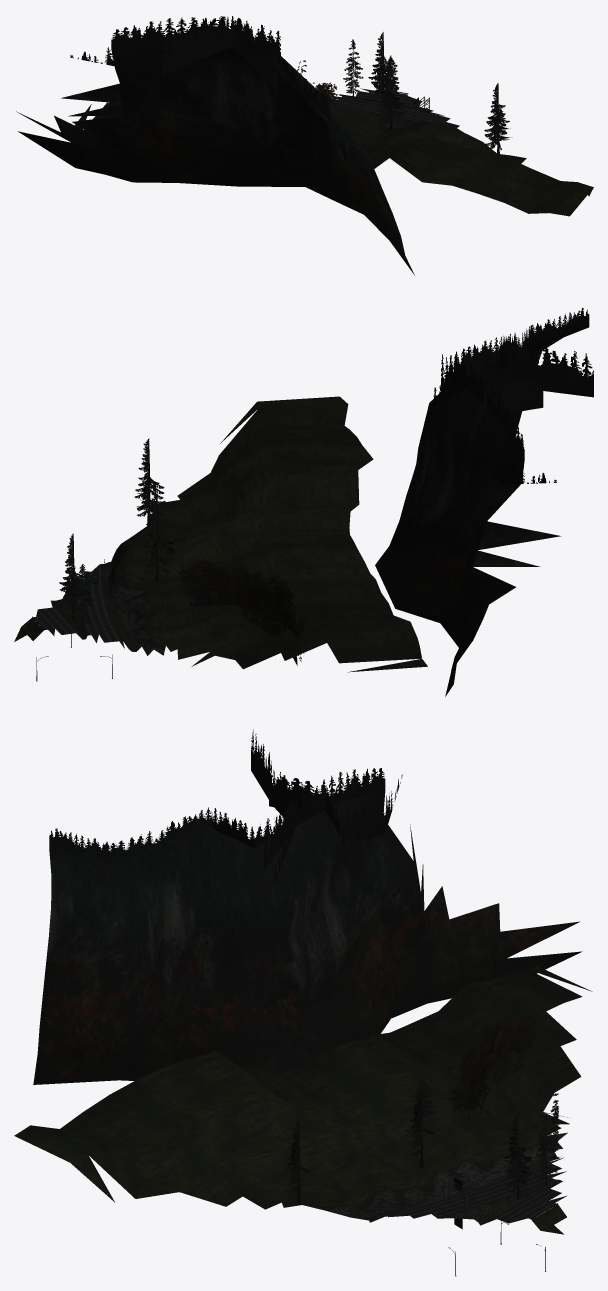
Rendered from cell_-2_-9.gltf.
3 renders of one model, top to bottom at view 1: azimuth 30°, elevation 25°; view 2: azimuth 150°, elevation 25°; view 3: azimuth 270°, elevation 25°, orthographic. The views are drawn at different scales.
Visible parts, largest first — view 1: cell_-2_-9; view 2: cell_-2_-9; view 3: cell_-2_-9.
Boxes of the visible parts, <box> form: cell_-2_-9: <box>16,16,593,275</box>; cell_-2_-9: <box>14,307,593,696</box>; cell_-2_-9: <box>14,729,592,1276</box>.
Bounding box in the file's own units: 289 × 188 × 289.
Materials: 29 (29 with a texture image).
